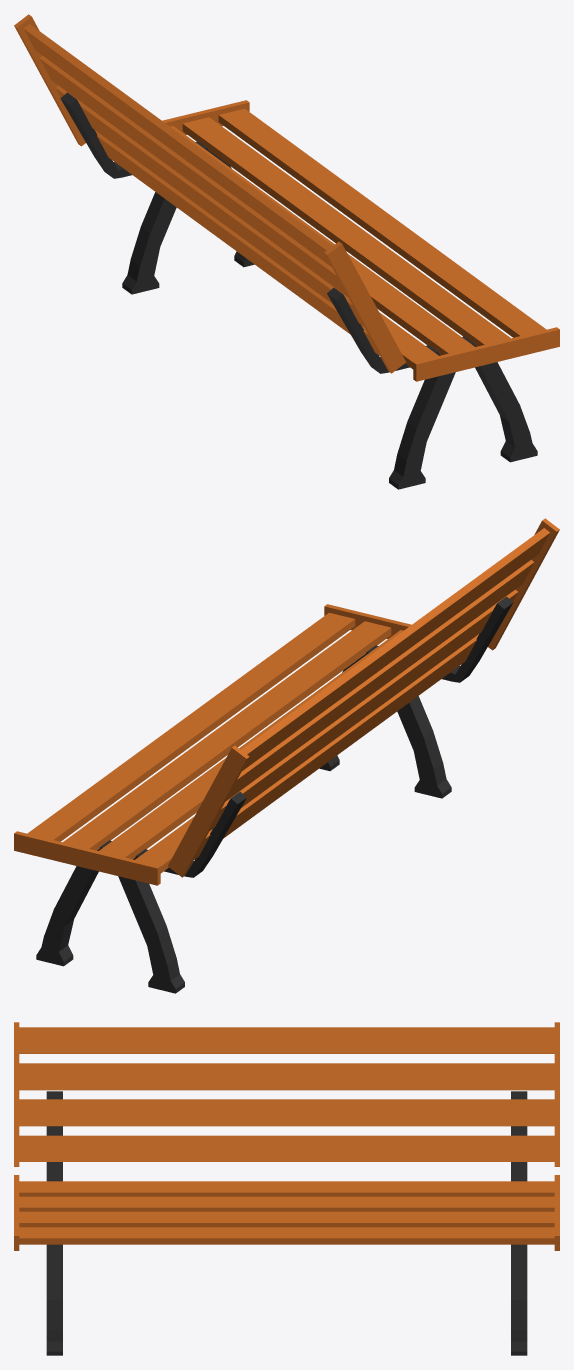
The model's file is bench.fbx.
3 views of the same model, one above another, from view 1: azimuth 30°, elevation 25°; view 2: azimuth 150°, elevation 25°; view 3: azimuth 270°, elevation 25° (orthographic). The views are drawn at different scales.
Parts seen in each view (by area): view 1: Cube, Cube.001, 立方体; view 2: Cube, Cube.001, 立方体; view 3: Cube.001, Cube, 立方体.
Part boxes in pixels (x1,y1,x2,y2): Cube: (162, 100, 559, 381); Cube.001: (14, 14, 406, 373); 立方体: (60, 92, 537, 489); Cube: (14, 604, 411, 885); Cube.001: (167, 518, 559, 877); 立方体: (36, 596, 513, 993); Cube.001: (14, 1022, 559, 1166); Cube: (14, 1175, 559, 1250); 立方体: (46, 1091, 527, 1355).
Bounding box in the file's own units: 245 × 280 × 572.
